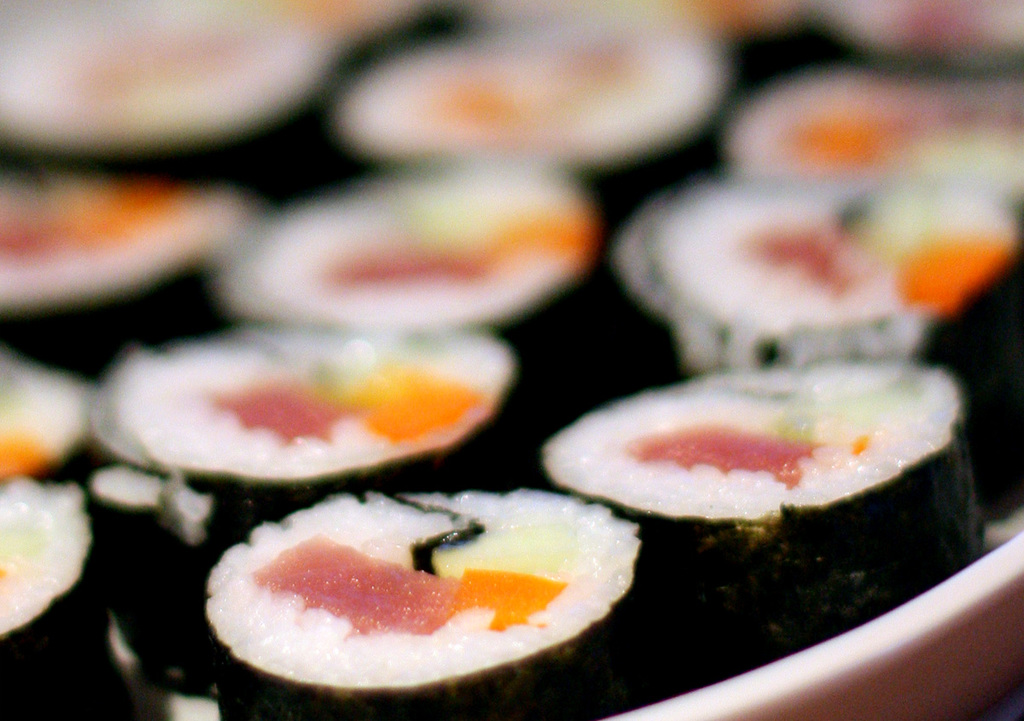sushi: (0, 5, 1023, 720), (199, 486, 648, 718)
